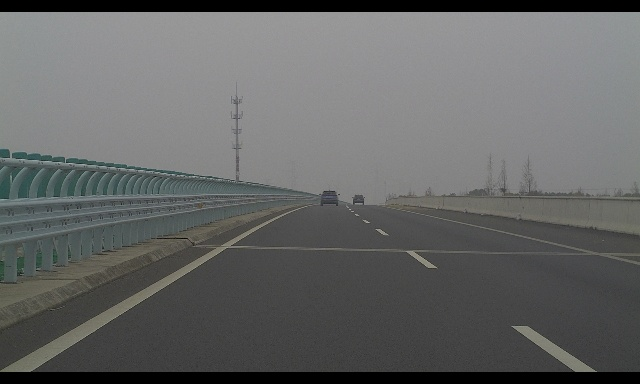car: (319, 190, 340, 206), (352, 194, 365, 205)
